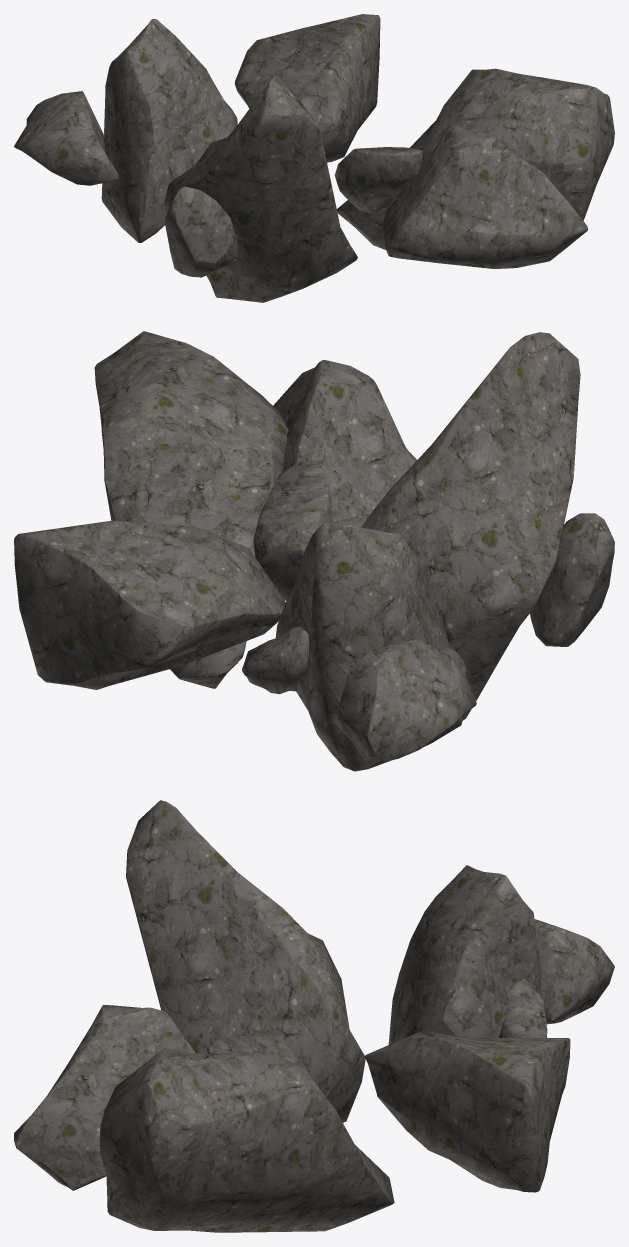
Rendered from rocks_large_01.fbx.
3 renders of one model, top to bottom at view 1: azimuth 30°, elevation 25°; view 2: azimuth 150°, elevation 25°; view 3: azimuth 270°, elevation 25°, orthographic. The views are drawn at different scales.
Parts seen in each view (by area): view 1: GEOM0_LOD0; view 2: GEOM0_LOD0; view 3: GEOM0_LOD0.
Boxes of the visible parts, left/top/right/bottom form: GEOM0_LOD0: left=14, top=14, right=614, bottom=302; GEOM0_LOD0: left=14, top=331, right=614, bottom=771; GEOM0_LOD0: left=14, top=800, right=614, bottom=1232.
Size of what is drawn, in the model's own units: 1350 by 794 by 1352.
